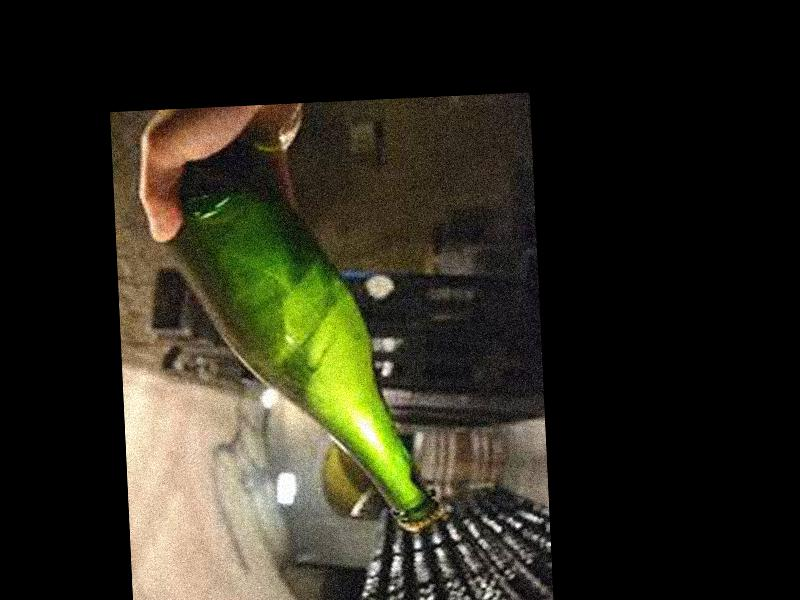Beer: (151, 136, 449, 543)
